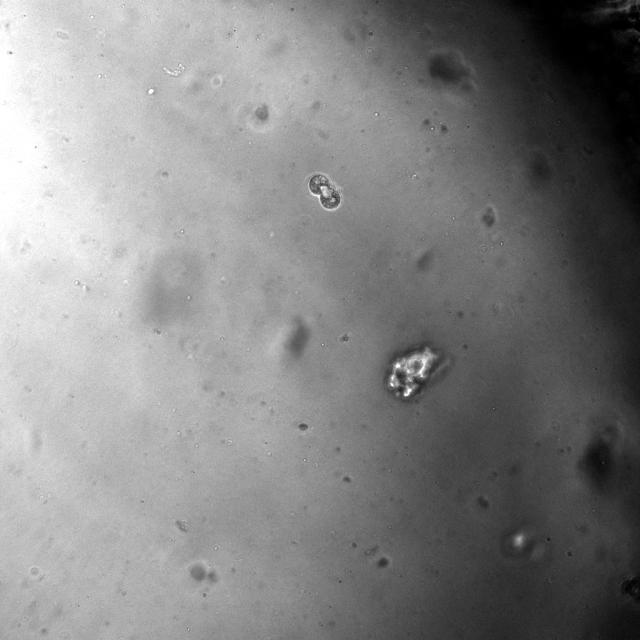organoid: (386, 345, 448, 401), (309, 173, 341, 210), (191, 564, 206, 581), (254, 104, 268, 121)
